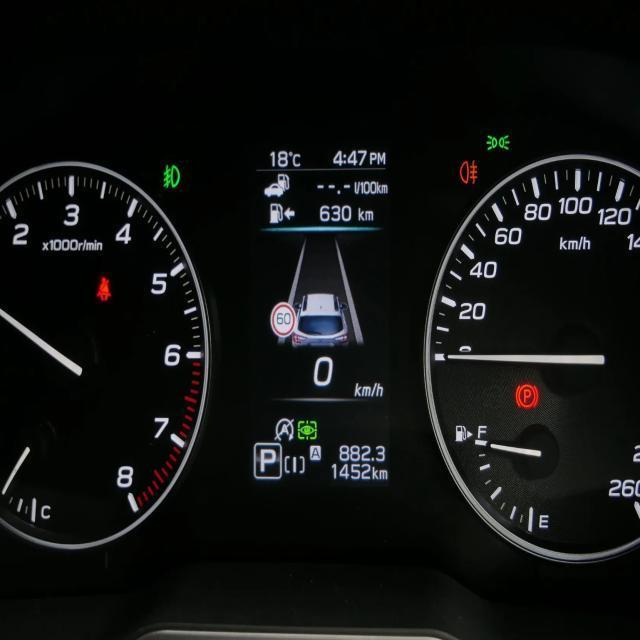Seat Belt: (95, 275, 111, 299)
